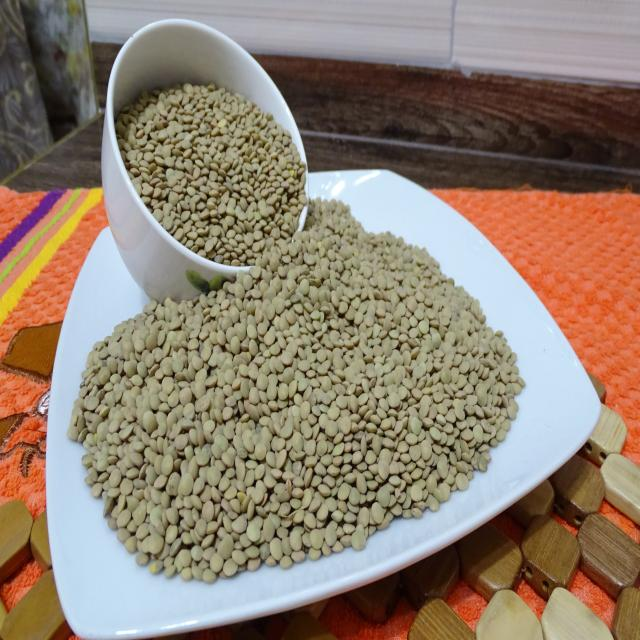lentejas: (74, 302, 524, 508)
